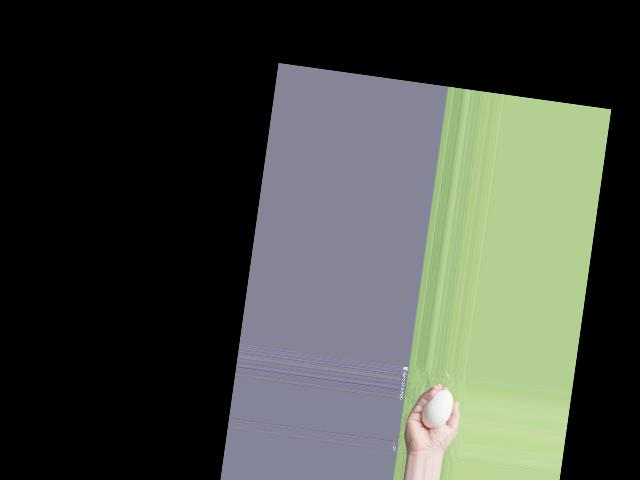egg: (419, 387, 454, 432)
